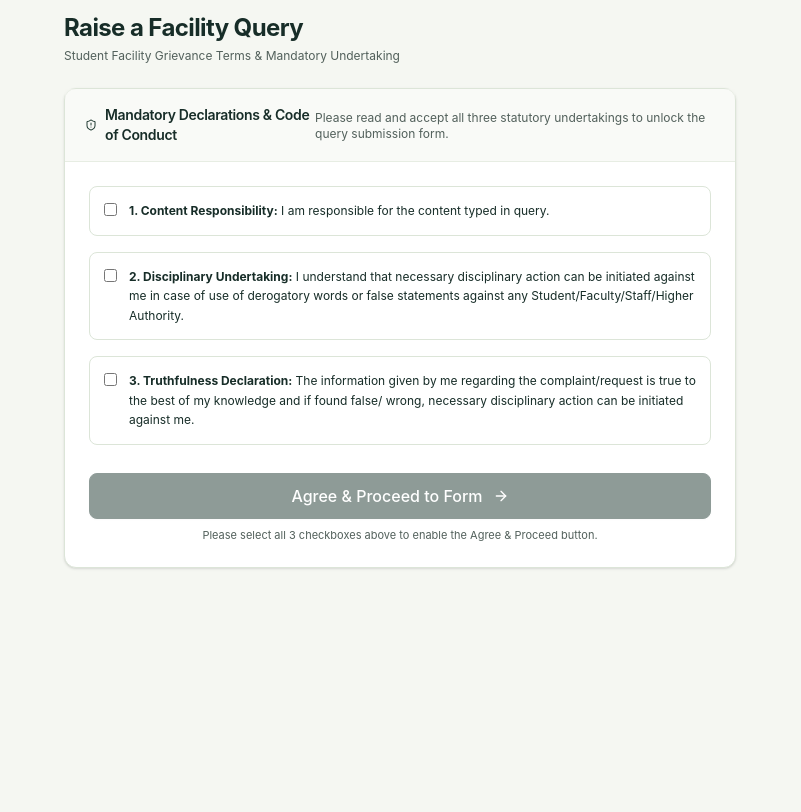
Test case: FIPP 2.0 Phase 3 — Student Portal Unit Tests › 2. Raise Query Mandatory Declarations & Workflow › displays agreement card on initial entry and requires all 3 declarations before unlocking form
The image size is (801, 812).
Expected: the text "Student Facility Grievance Terms & Mandatory Undertaking" is shown, [64,48,400,63]
Expected: the button "Agree & Proceed to Form" is disabled, [89,472,711,518]
What coordinates should you click on to do the following:
click the 1st checkbox
I would click on:
 (110, 210)
Its box is [104,203,117,216].
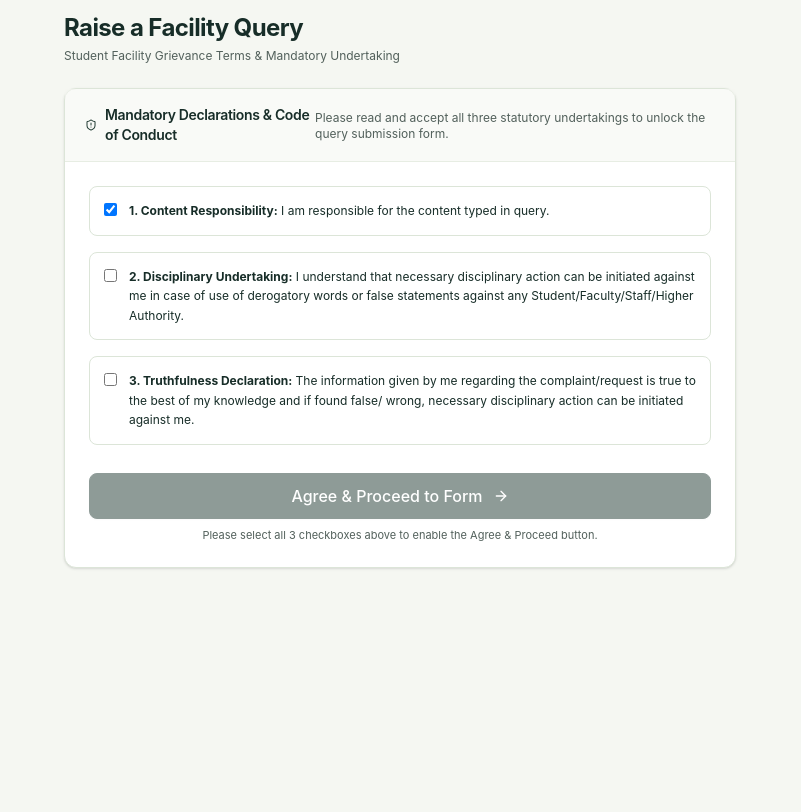
Expected: the button "Agree & Proceed to Form" is disabled, [89,472,711,518]
What coordinates should you click on to do the following:
click the 2nd checkbox
I would click on:
 (110, 275)
Its box is [104,268,117,282].
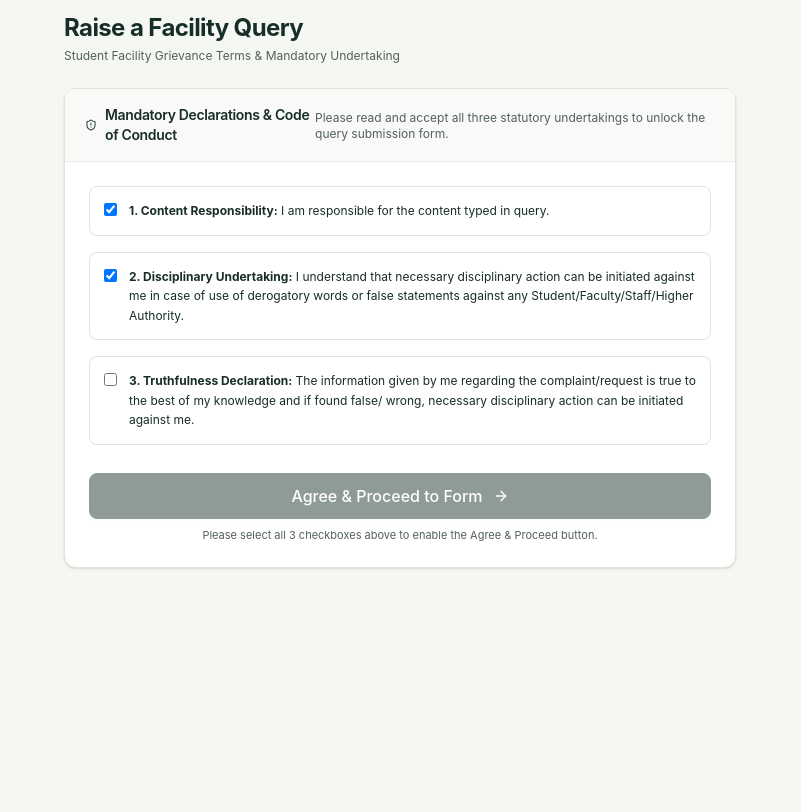
Expected: the button "Agree & Proceed to Form" is disabled, [89,472,711,518]
What coordinates should you click on to do the following:
click the 3rd checkbox
I would click on:
 (110, 380)
Its box is [104,373,117,386].
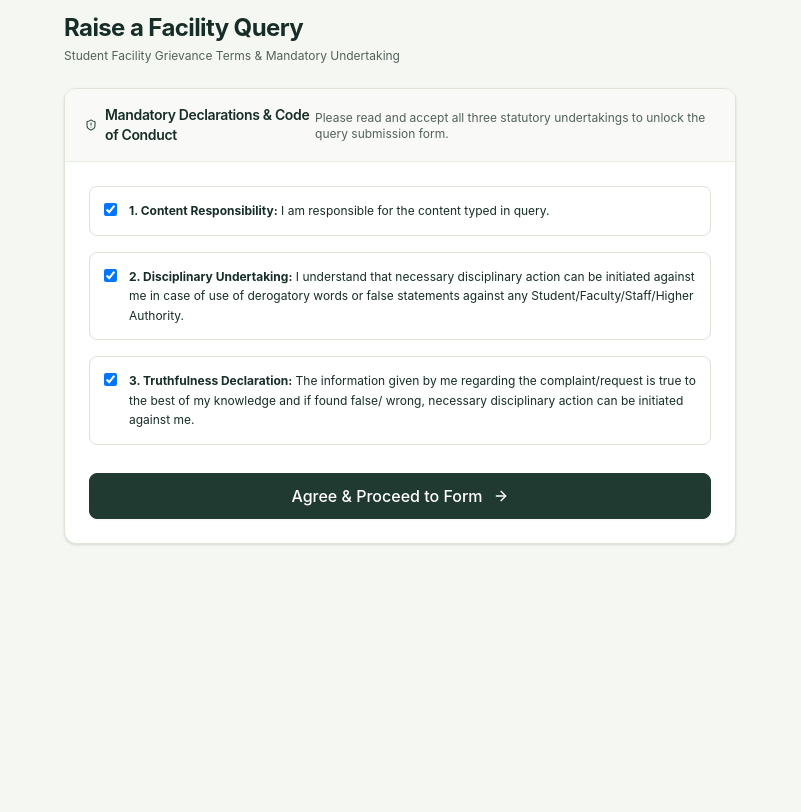
Result: the button "Agree & Proceed to Form" is enabled
Note: Click Agree & Proceed
What coordinates should you click on to do the following:
click the button "Agree & Proceed to Form"
I would click on:
 (400, 496)
Its box is [89,472,711,518].
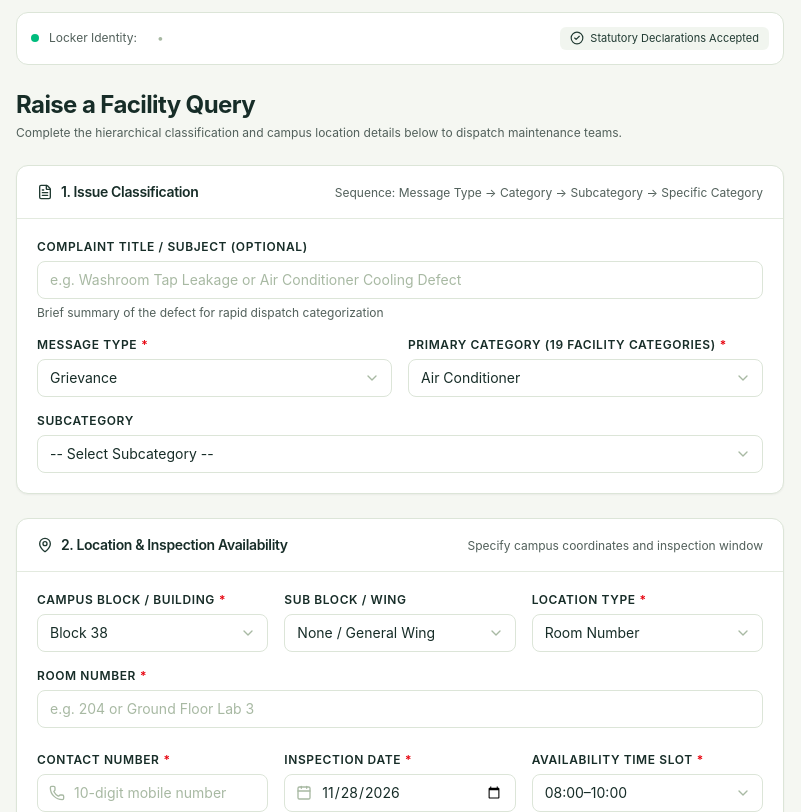
Result: the heading "1. Issue Classification" is shown at [37,182,198,202]
